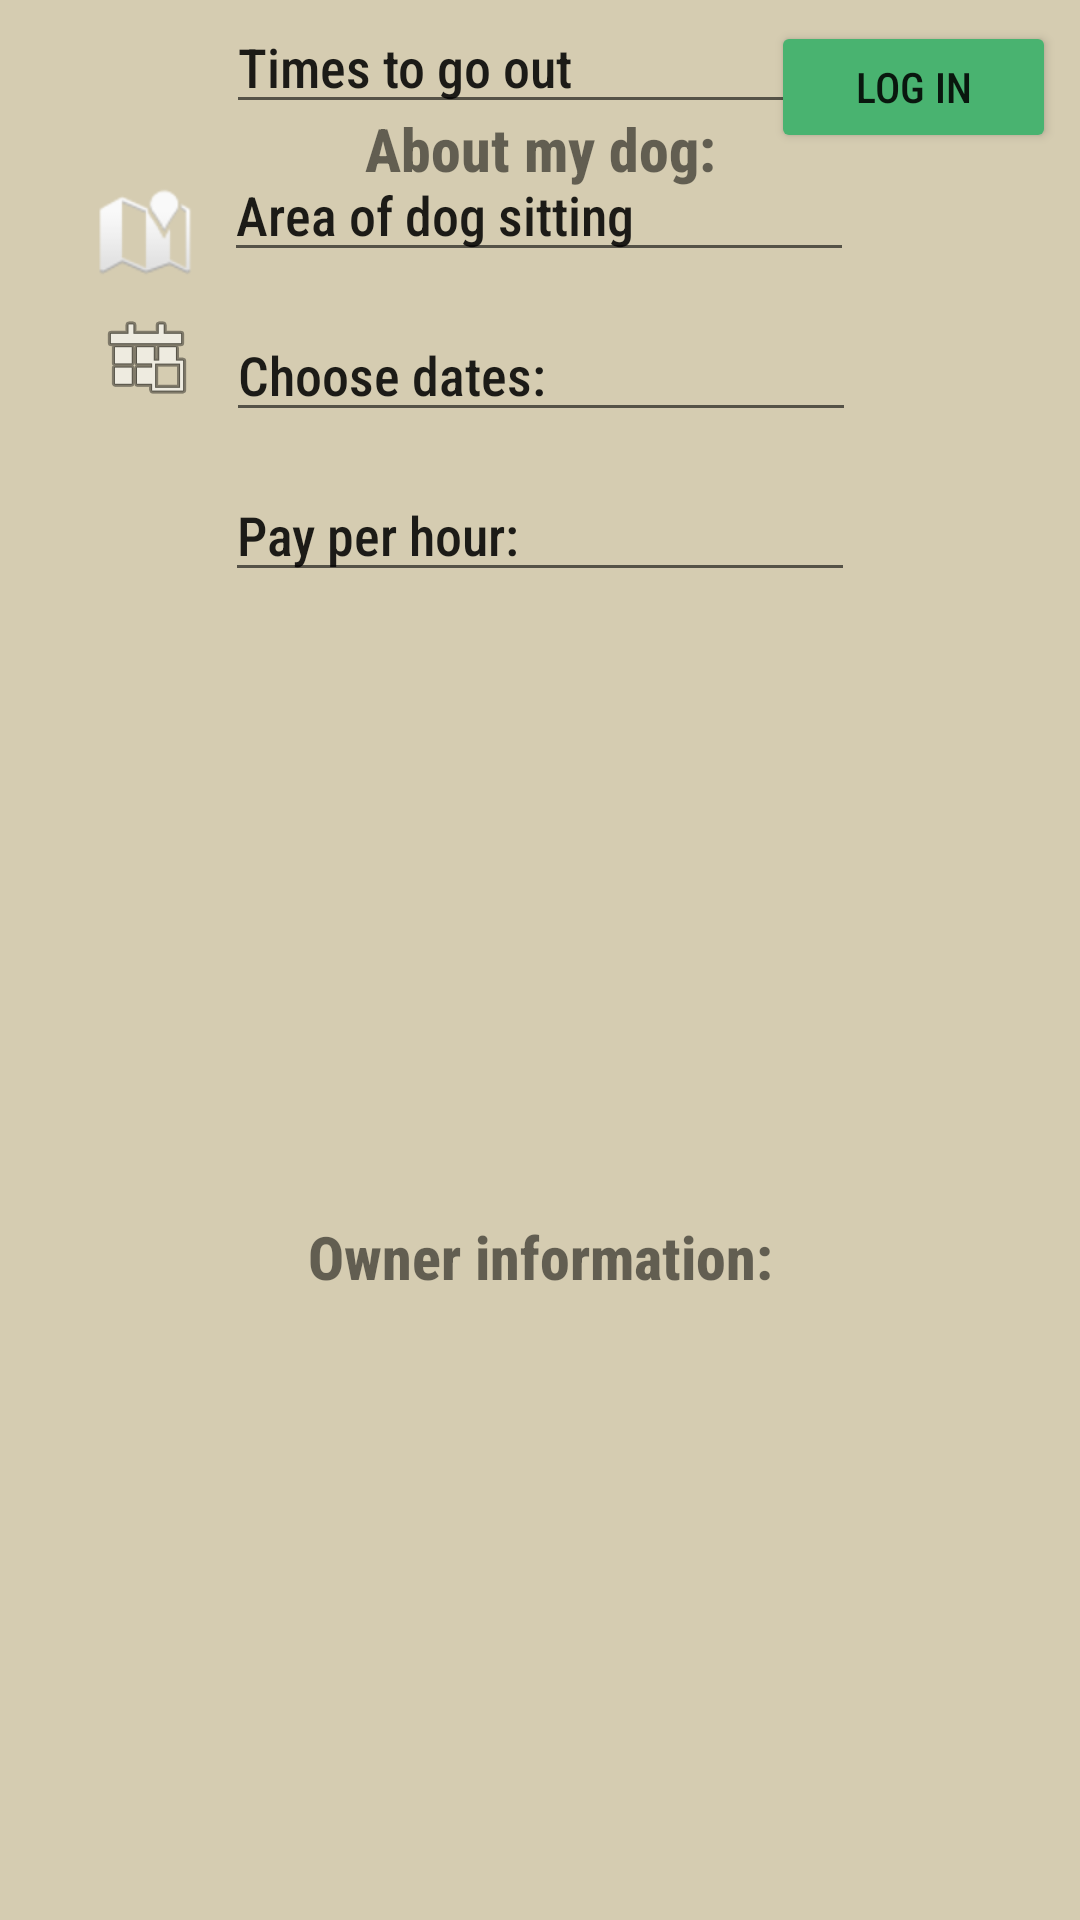

Where icons sit on this 1080px×1920px app screen, as (x1, y1, x2, y2):
map: (100, 190, 190, 272)
today: (108, 321, 186, 394)
